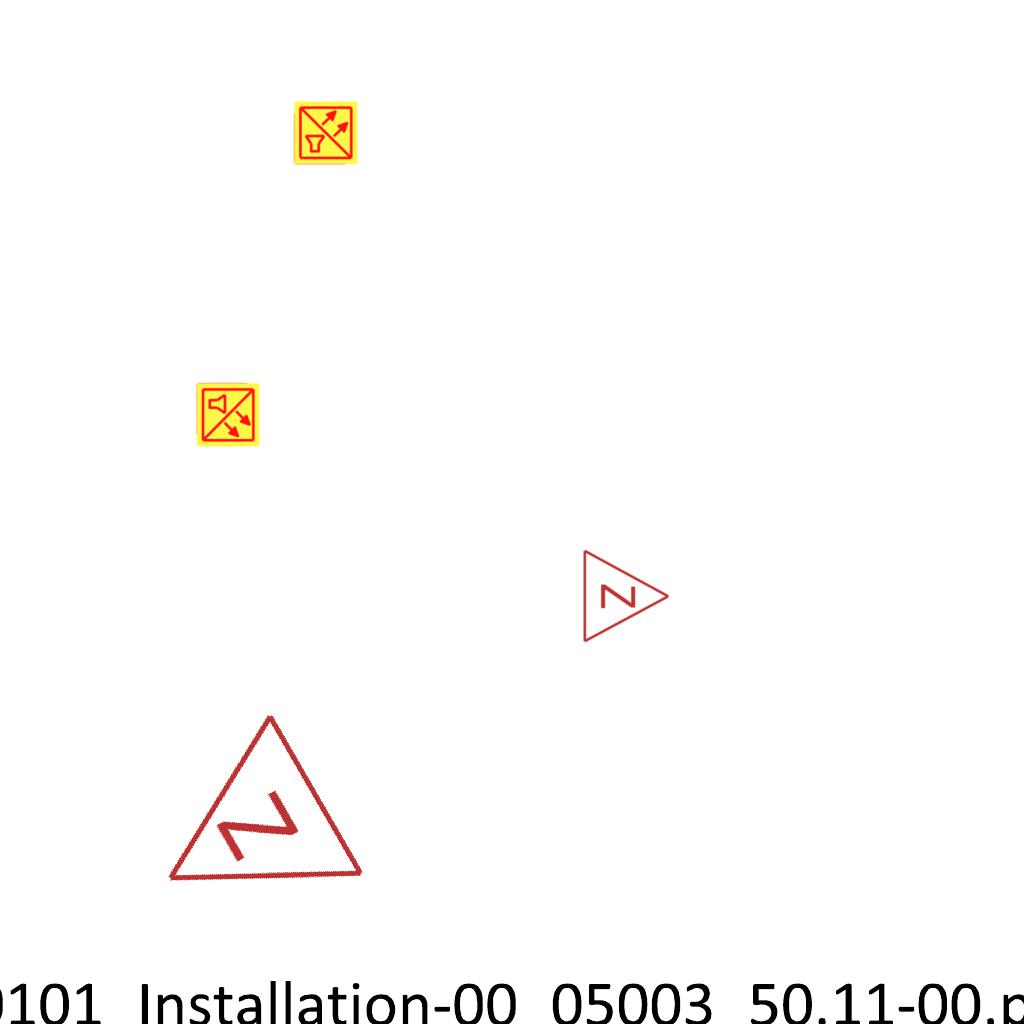OKW_Multisensormelder_(Kombination_optischer_Rauch-Kahlenmonoxid_Waerme-Melder): (293, 100, 359, 166), (195, 382, 261, 448)
Zimmersignalleuchte: (109, 703, 381, 973), (576, 546, 676, 644)
